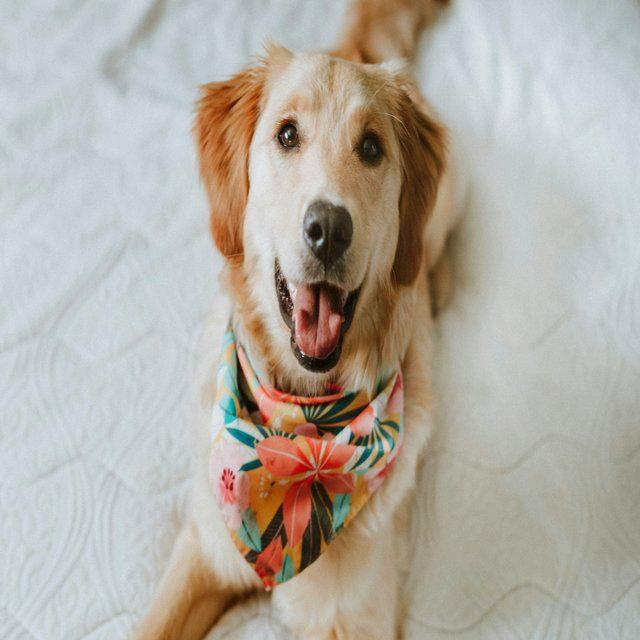retriever: (130, 0, 466, 638)
